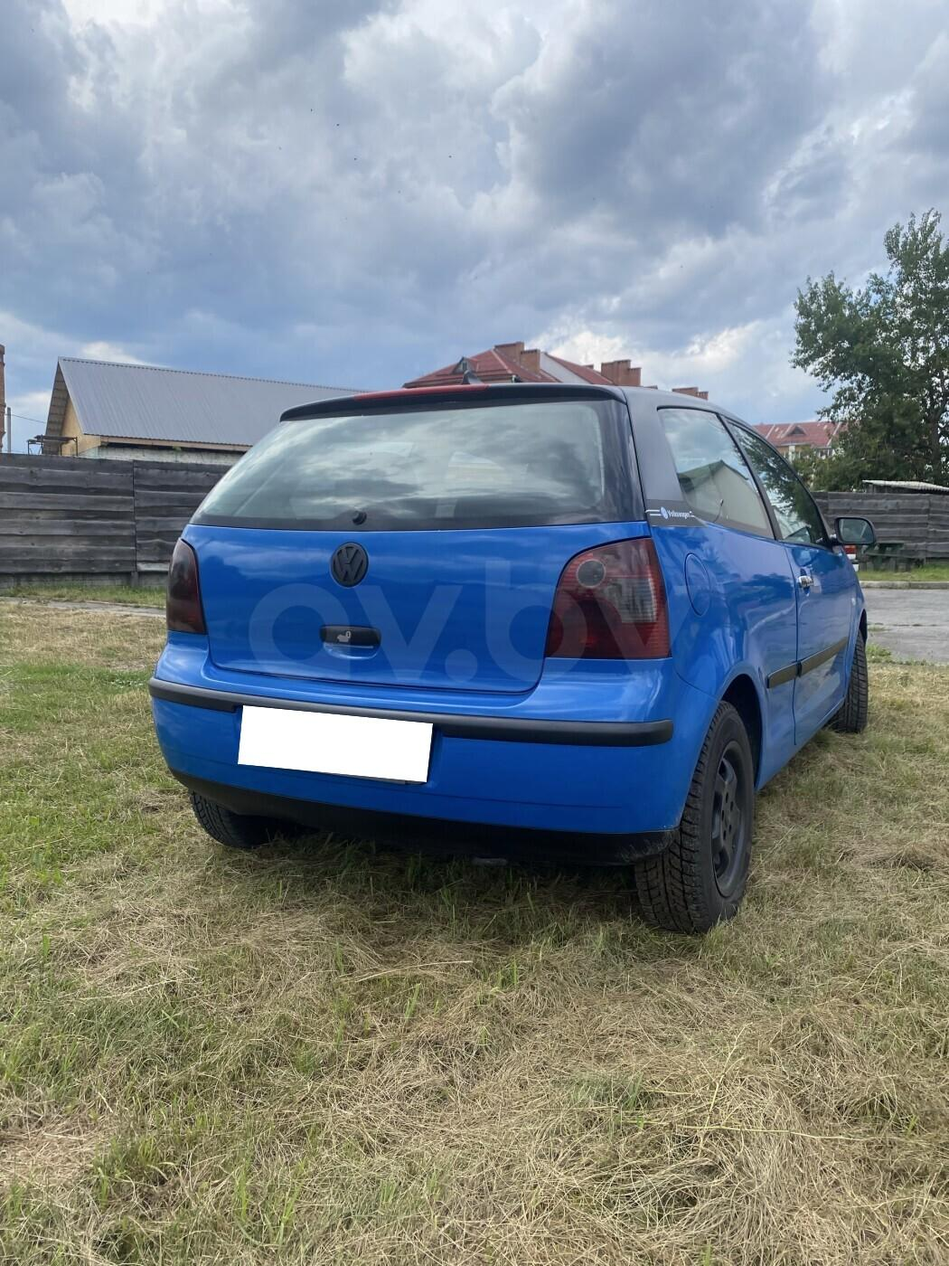Polo_2001-2005: (138, 385, 892, 967)
